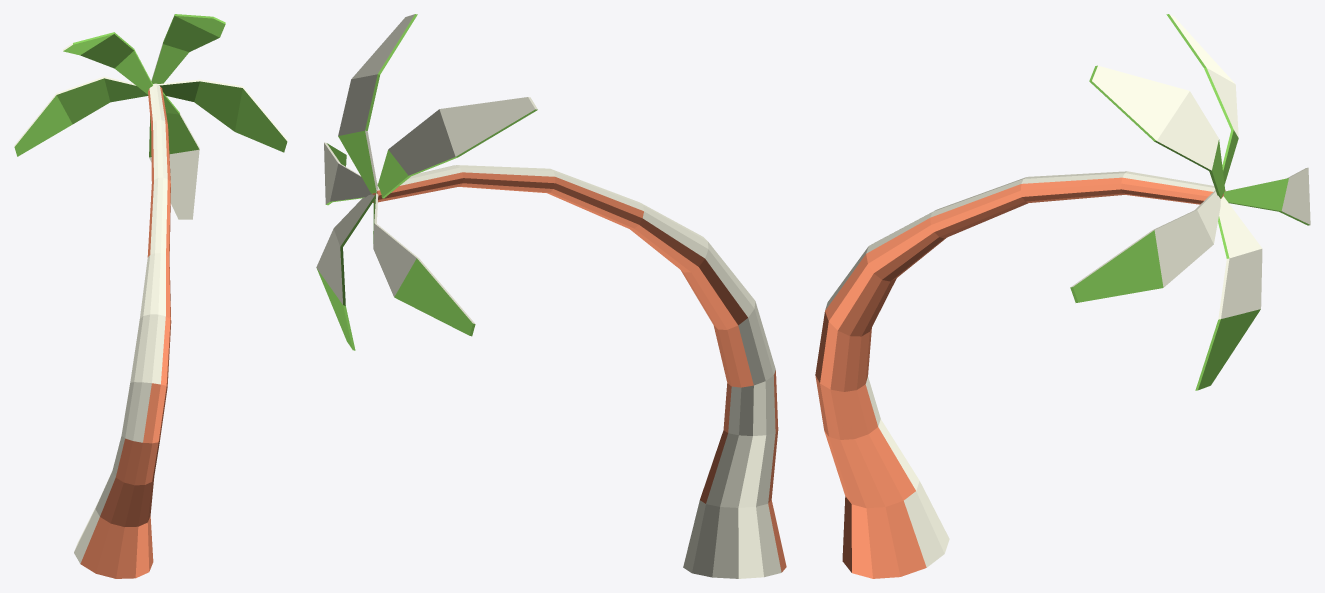
The model's file is Palm1_winter.FBX.
3 views of the same model, side by side, from view 1: azimuth 30°, elevation 25°; view 2: azimuth 150°, elevation 25°; view 3: azimuth 270°, elevation 25° (orthographic). The views are drawn at different scales.
Visible parts, largest first — view 1: Palm.001; view 2: Palm.001; view 3: Palm.001.
Part boxes in pixels (left/top/right/bottom): Palm.001: left=14, top=14, right=287, bottom=578; Palm.001: left=316, top=14, right=786, bottom=578; Palm.001: left=815, top=14, right=1310, bottom=578.
Size of the model in its own units: 4.24 by 6.66 by 4.9.
